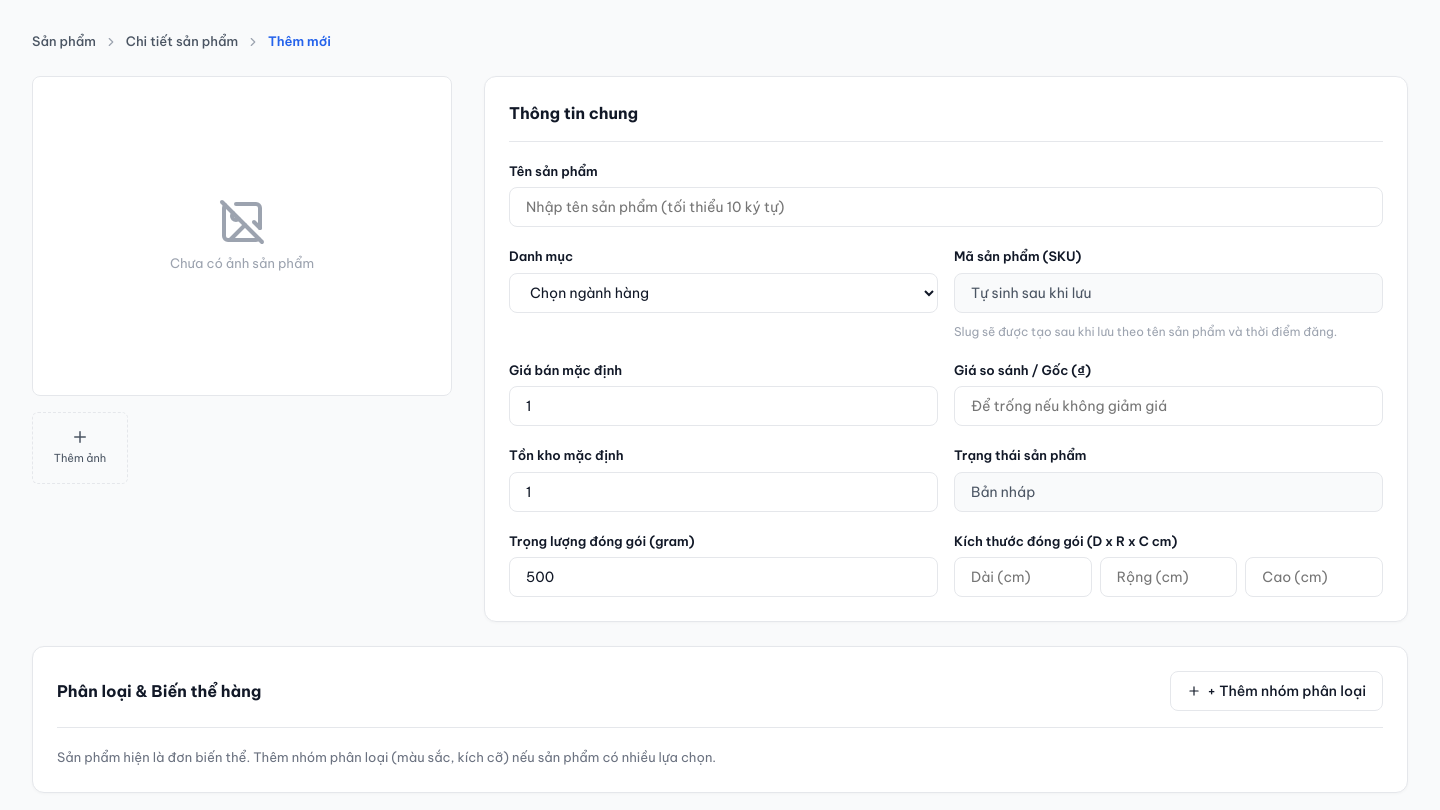
Seller product management › uses editable formatted price and stock fields with a default value of one
Expected: the field labelled "Tồn kho mặc định" holds "1", [509,472,938,512]
Replace the text in the field labelled "Giá bán mặc định" with "500000" at [724, 406], box [509,386,938,426]
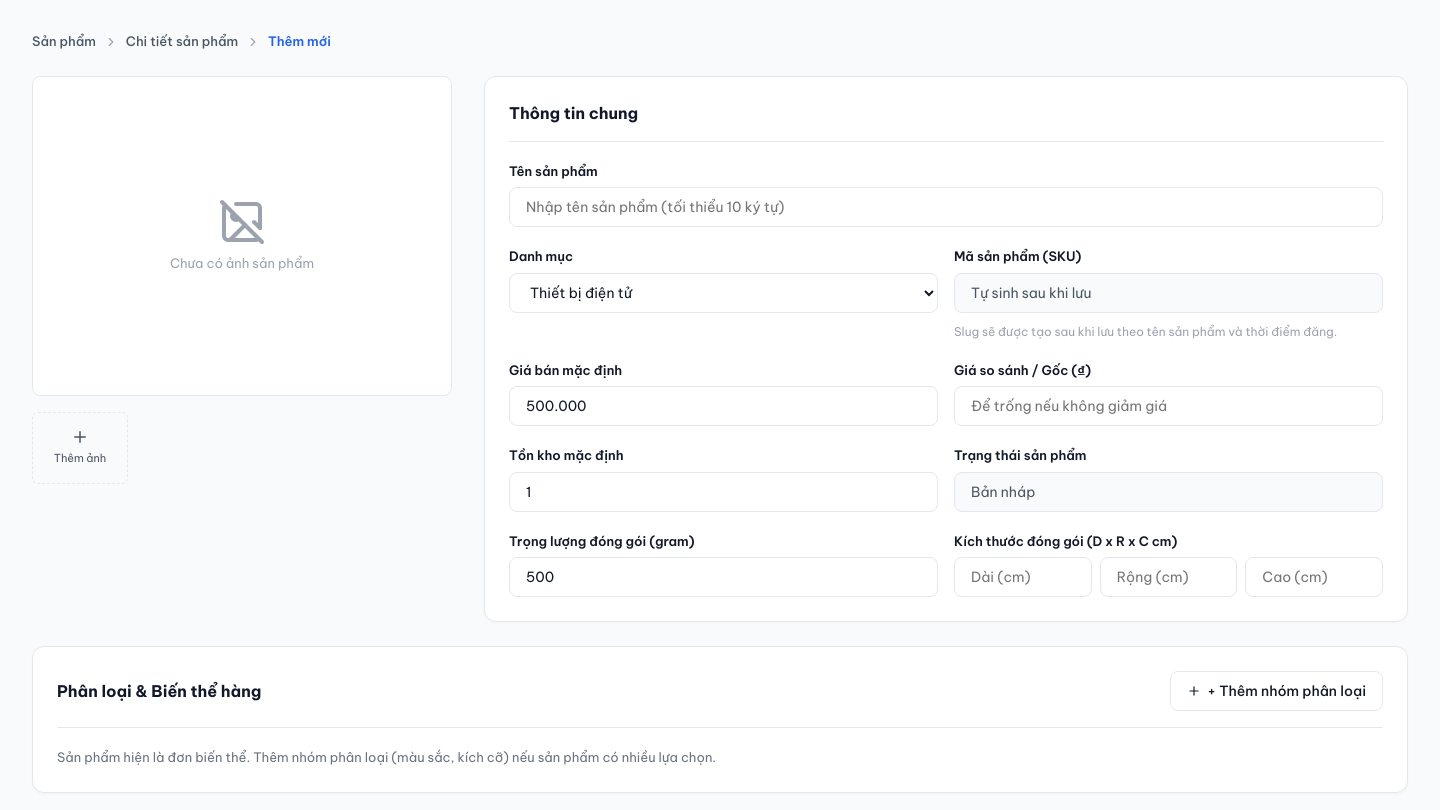
Replace the text in the field labelled "Tồn kho mặc định" with "1200" at [724, 492], box [509,472,938,512]
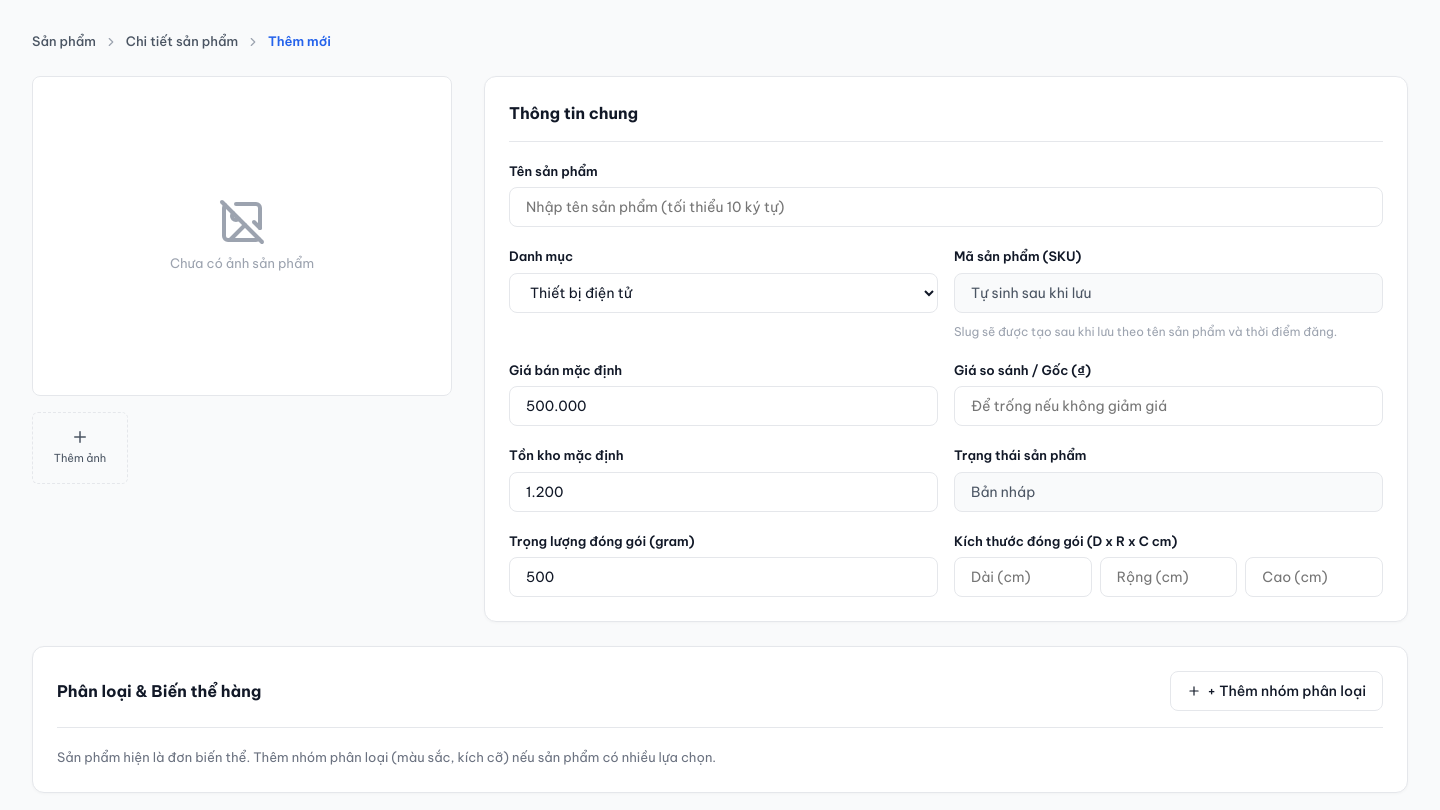
Expected: the field labelled "Giá bán mặc định" holds "500.000", [509,386,938,426]
Expected: the field labelled "Tồn kho mặc định" holds "1.200", [509,472,938,512]
